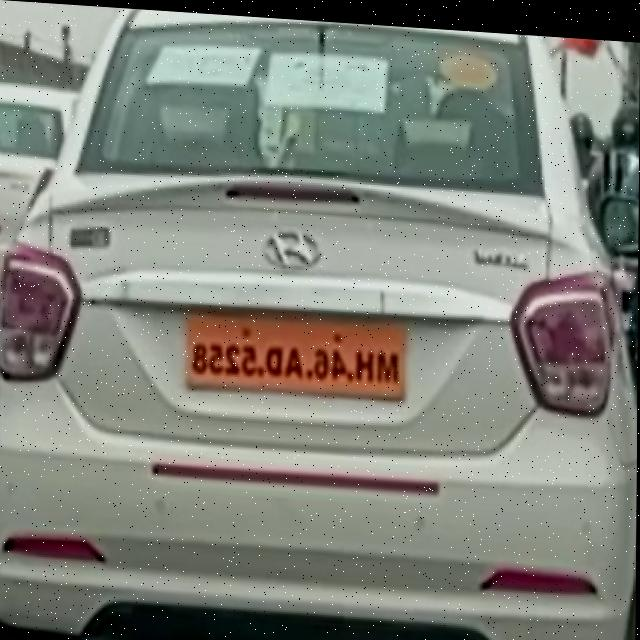plate: (185, 304, 410, 398)
